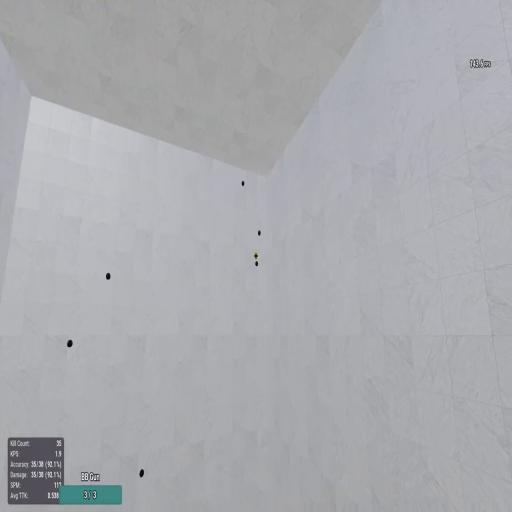Crosshair: (253, 252, 259, 260)
Target: (66, 338, 73, 348), (138, 468, 144, 478), (105, 271, 111, 279), (254, 260, 260, 267), (241, 180, 245, 188), (258, 229, 261, 238)
